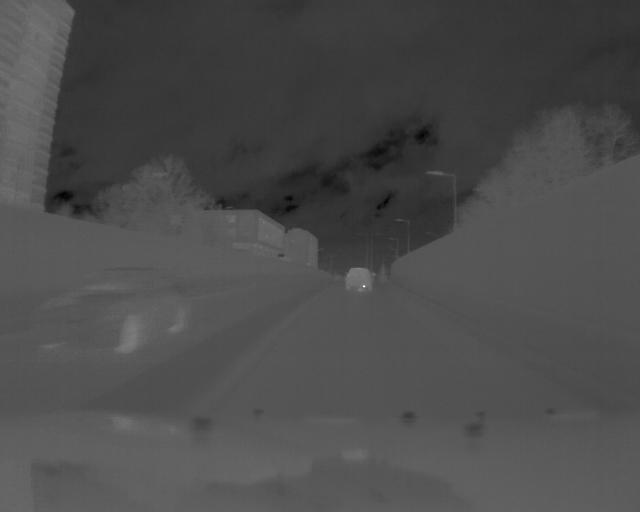car: (27, 263, 194, 358), (343, 265, 374, 294)
